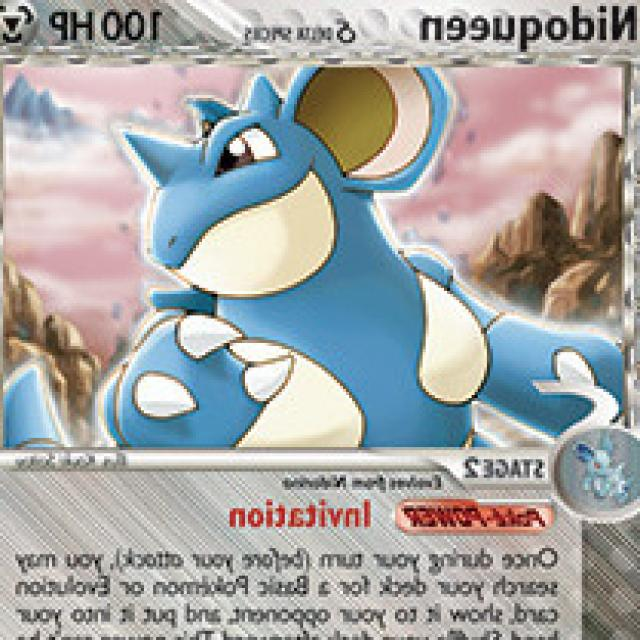Nidoqueen: (93, 59, 503, 451)
